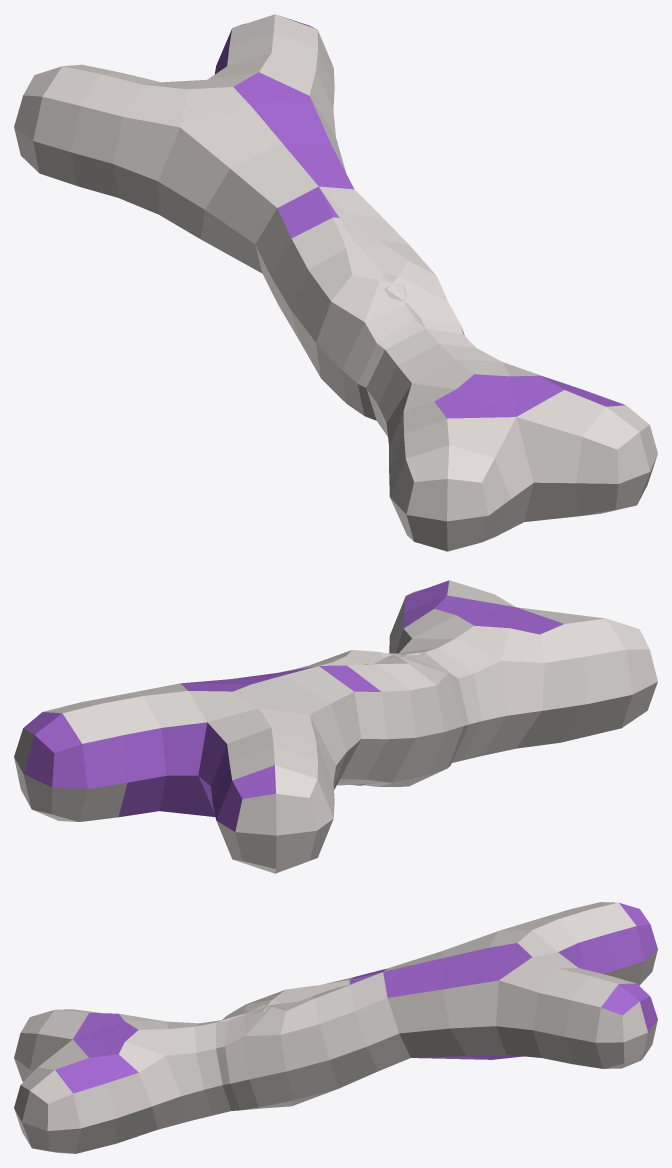
File: ucnicorn_bone.glb
3 views of the same model, one above another, from view 1: azimuth 30°, elevation 25°; view 2: azimuth 150°, elevation 25°; view 3: azimuth 270°, elevation 25° (orthographic). The views are drawn at different scales.
Parts seen in each view (by area): view 1: Plane; view 2: Plane; view 3: Plane.
Boxes of the visible parts, box(x1,y1,x2,y2) form: Plane: box(14, 14, 657, 551); Plane: box(14, 580, 657, 873); Plane: box(14, 902, 657, 1153).
Bounding box in the file's own units: 0.2151 × 0.1593 × 0.5042.
